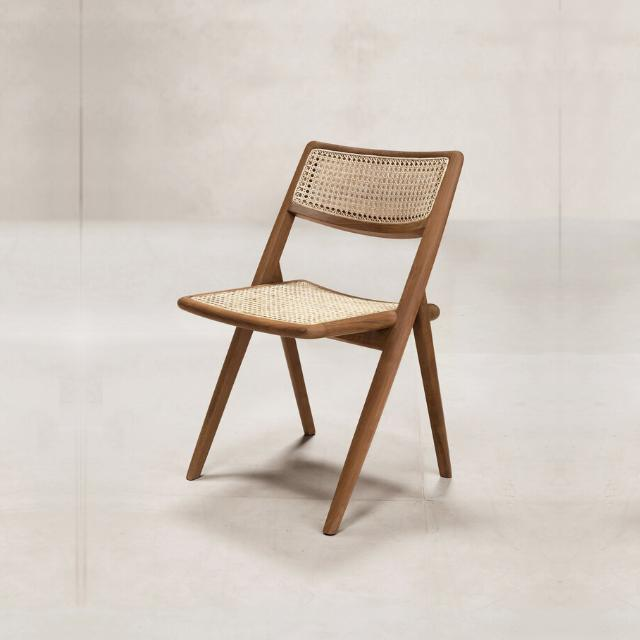obstacle: (165, 89, 498, 567), (621, 89, 640, 567)
